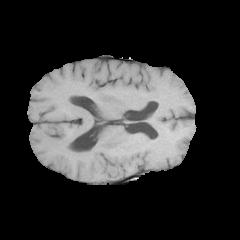glioma: (103, 151, 149, 183)
